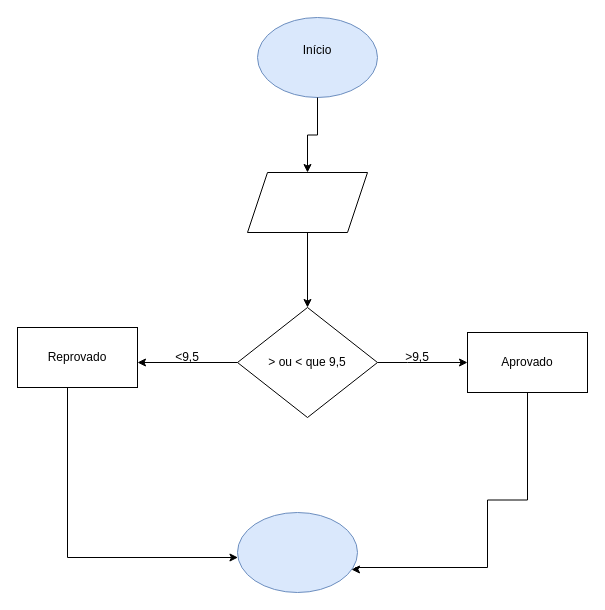
Some shapes in this 605 by 610 pixel diagram are drawn without their labels. The shapes that lost their labels are listed below. From the top down, each one's box as (x1, y1, x2, y2) in pixels, then its label:
(246, 172, 368, 232): escrever nota aluno
(236, 512, 358, 592): Fim
